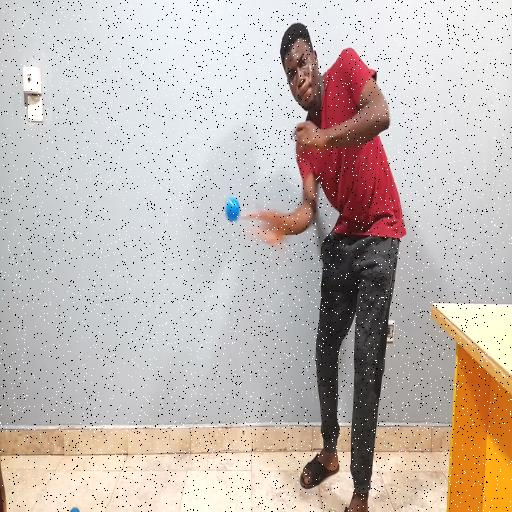plastic-ball: (224, 194, 242, 228)
